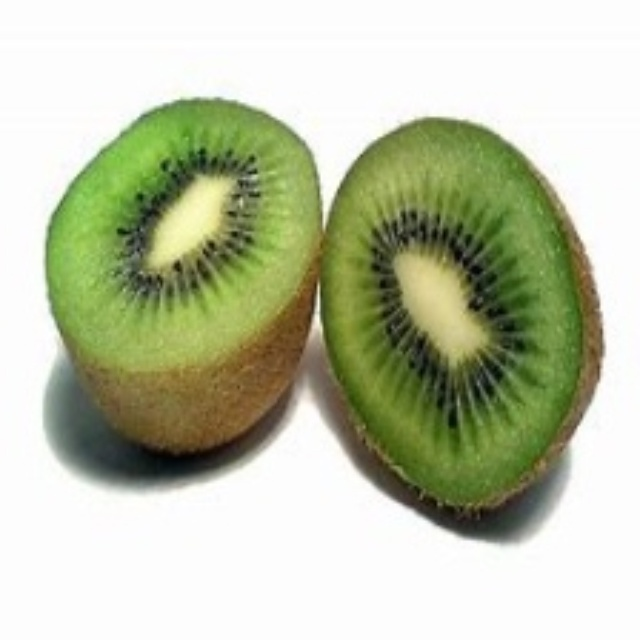kiwi: (309, 114, 608, 514), (44, 93, 326, 468)
